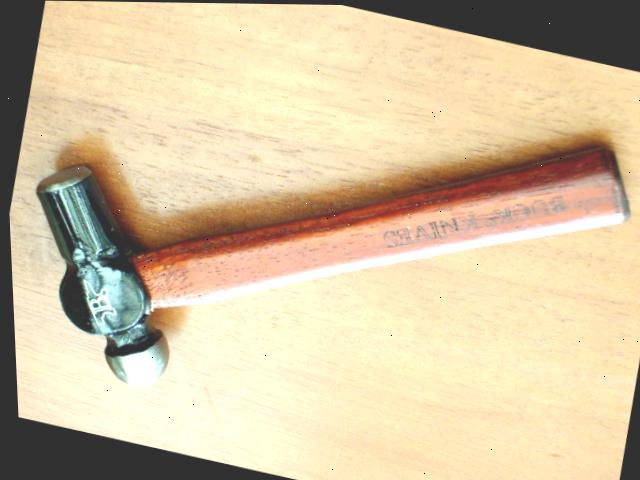hammer: (0, 7, 640, 480)
